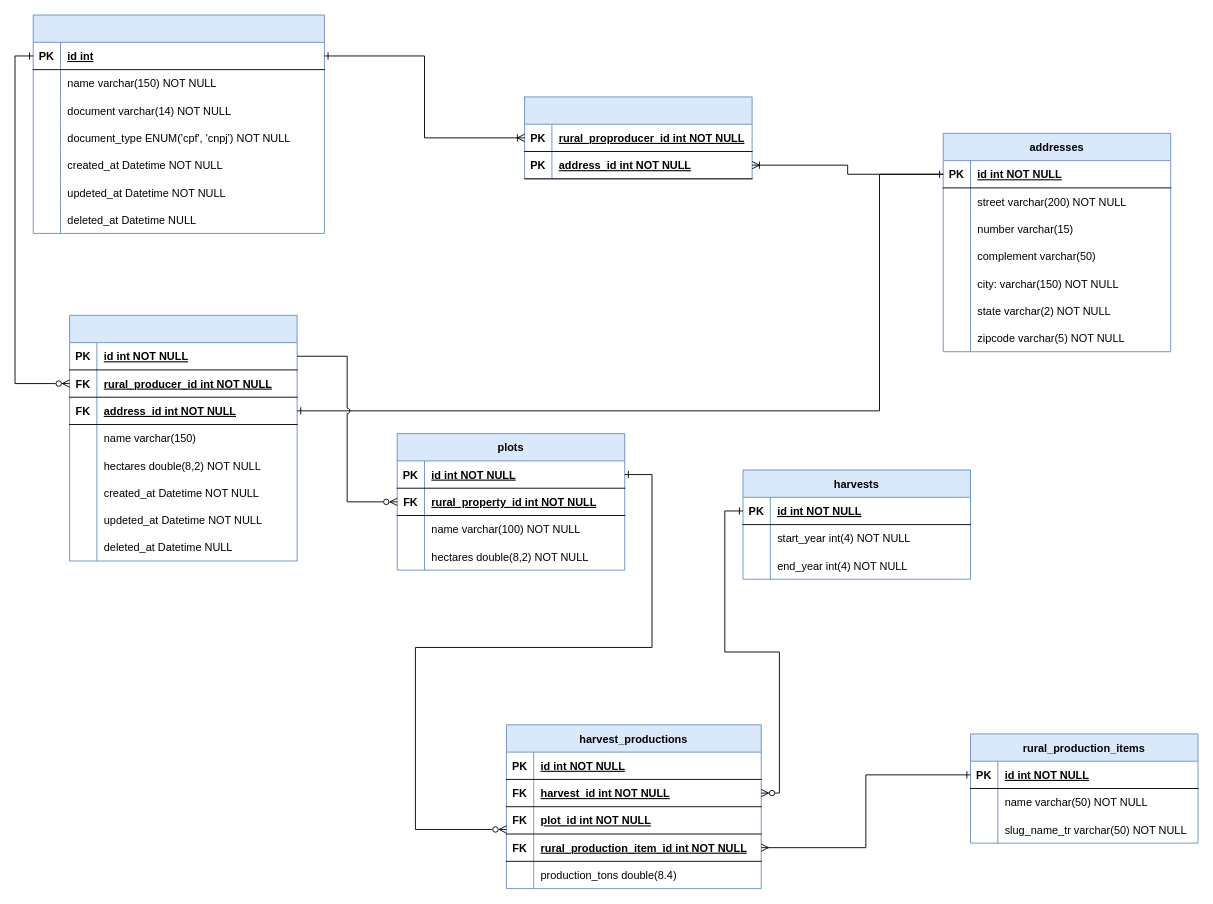
Image size: 1213x904. Some labels were removed from this diagram. The box of each missing label's shape, as (x1, y1, x2, y2) in pixels:
rural_producers: (32, 14, 324, 233)
rural_producers_addresses: (524, 96, 752, 179)
rural_properties: (69, 314, 297, 561)
